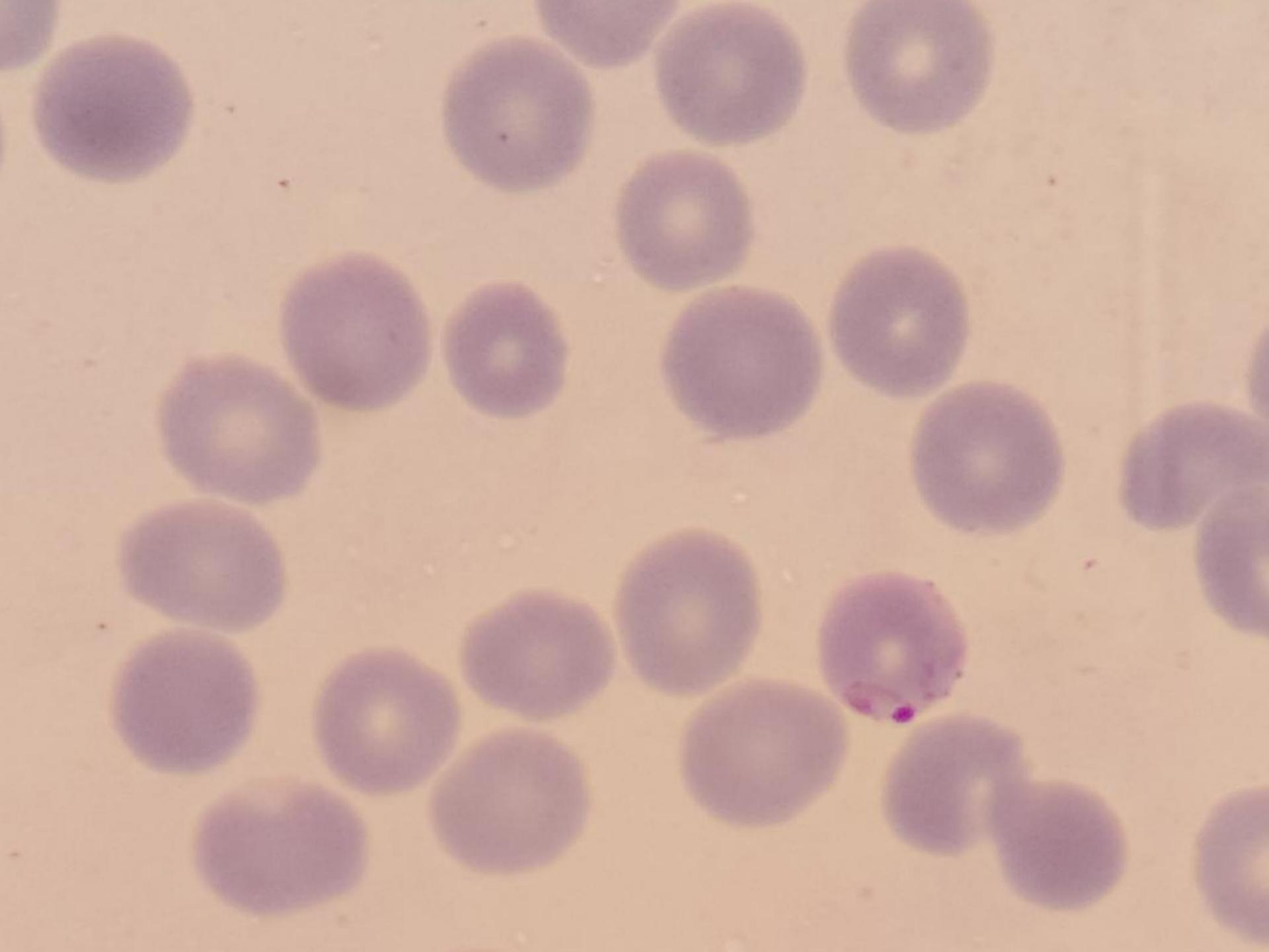Infected: (820, 573, 971, 727)
Uninfected: (677, 679, 852, 826), (613, 527, 759, 696), (35, 32, 194, 184), (666, 288, 823, 438), (160, 354, 325, 496), (910, 384, 1067, 533), (202, 773, 364, 916), (281, 256, 428, 413), (428, 729, 589, 871), (444, 38, 590, 187), (117, 502, 282, 633), (844, 0, 995, 139), (312, 653, 462, 792), (654, 5, 803, 144), (833, 250, 971, 398), (111, 635, 257, 771), (613, 152, 755, 290), (884, 720, 1030, 852), (1122, 398, 1268, 528), (461, 595, 611, 717), (441, 284, 569, 421), (985, 785, 1123, 912)
